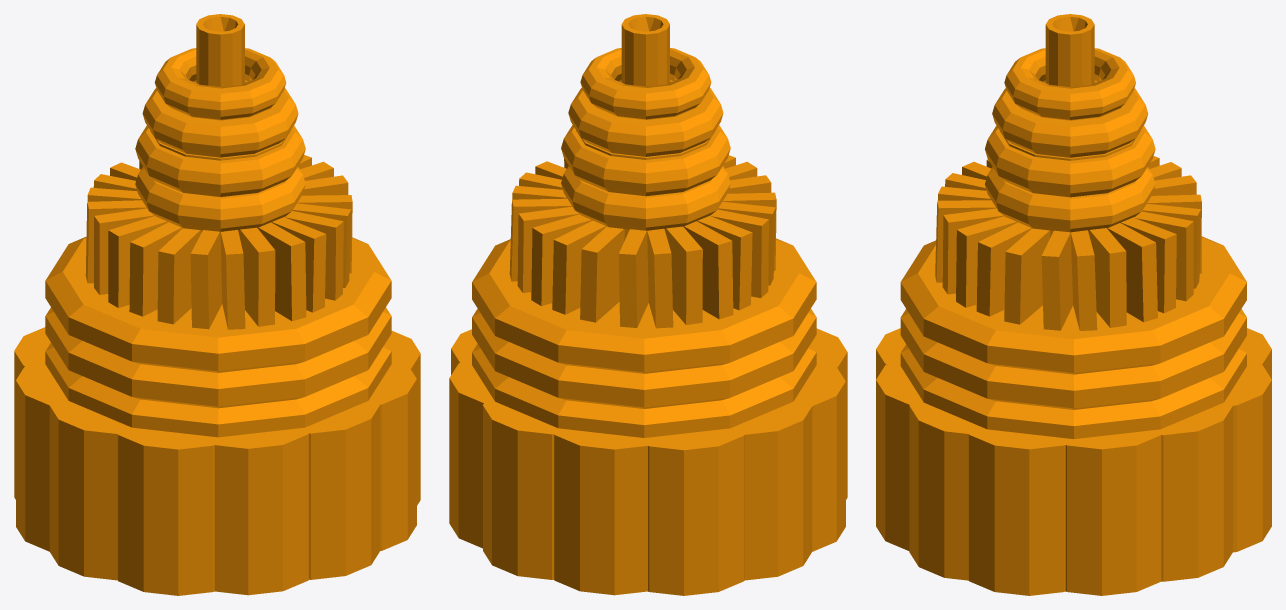
File: littleThrusterNew.obj
3 views of the same model, side by side, from view 1: azimuth 30°, elevation 25°; view 2: azimuth 150°, elevation 25°; view 3: azimuth 270°, elevation 25° (orthographic).
Parts seen in each view (by area): view 1: littleThruster_mesh217871607; view 2: littleThruster_mesh217871607; view 3: littleThruster_mesh217871607.
Part boxes in pixels (x1=…): littleThruster_mesh217871607: x1=14, y1=14, x2=420, y2=595; littleThruster_mesh217871607: x1=449, y1=14, x2=847, y2=595; littleThruster_mesh217871607: x1=876, y1=14, x2=1271, y2=595.
Size of the model in its own units: 0.5214 by 0.6996 by 0.5141.
